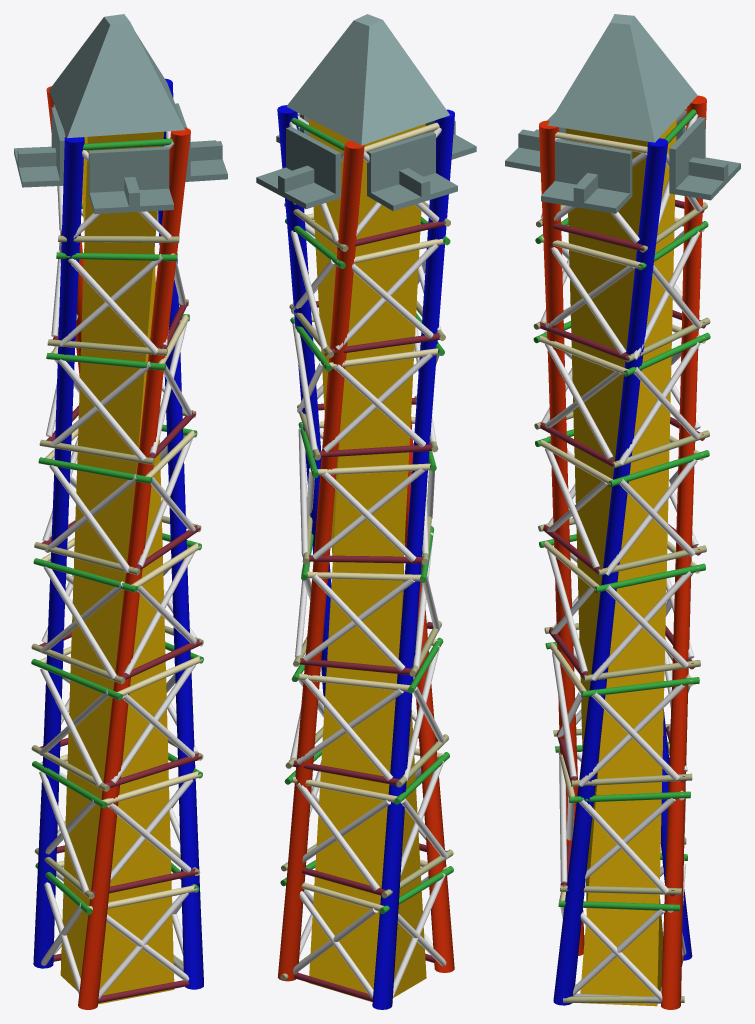
The model's file is HelixDrop_01.fbx.
The picture shows the model from 3 angles, left to right: view 1: azimuth 30°, elevation 25°; view 2: azimuth 150°, elevation 25°; view 3: azimuth 270°, elevation 25°; orthographic projection.
Visible parts, largest first — view 1: pasted__pasted__pCylinder19; view 2: pasted__pasted__pCylinder19; view 3: pasted__pasted__pCylinder19.
Part boxes in pixels (x1,y1,x2,y2): pasted__pasted__pCylinder19: [14, 14, 227, 1009]; pasted__pasted__pCylinder19: [256, 14, 476, 1009]; pasted__pasted__pCylinder19: [505, 14, 740, 1009].
Size of the model in its own units: 3.65 by 17.85 by 3.95.
